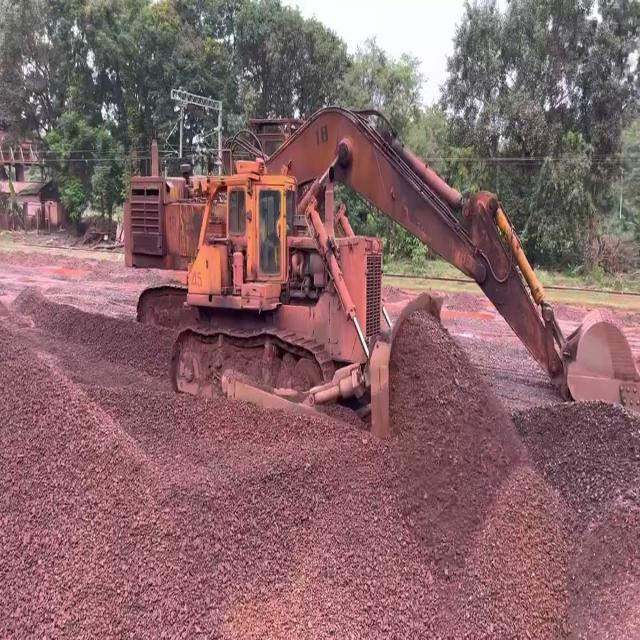buldozerpayloadergrader: (169, 158, 443, 441)
excavator: (118, 88, 640, 423)
